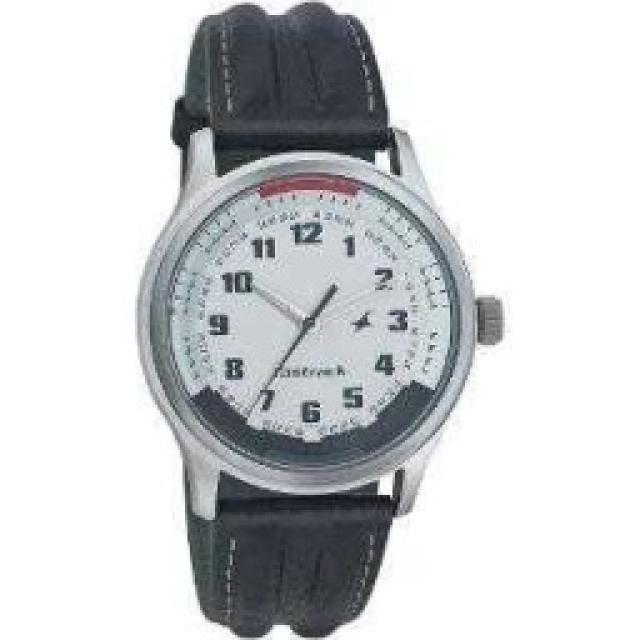saat: (128, 2, 514, 634)
